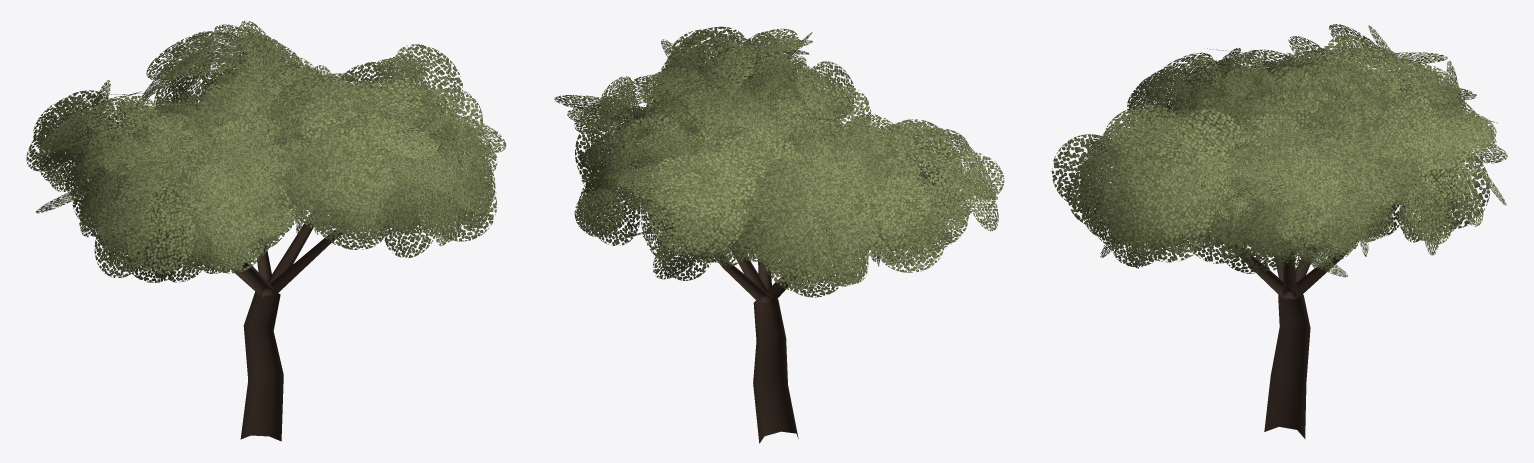
Rendered from caral_huarango_lod0.glb.
The picture shows the model from 3 angles, left to right: view 1: azimuth 30°, elevation 25°; view 2: azimuth 150°, elevation 25°; view 3: azimuth 270°, elevation 25°; orthographic projection. The views are drawn at different scales.
Visible parts, largest first — view 1: GEO-Kit_huarango_LOD0; view 2: GEO-Kit_huarango_LOD0; view 3: GEO-Kit_huarango_LOD0.
Boxes of the visible parts, <box> form: GEO-Kit_huarango_LOD0: <box>26,20,506,441</box>; GEO-Kit_huarango_LOD0: <box>554,26,1004,443</box>; GEO-Kit_huarango_LOD0: <box>1051,24,1507,438</box>.
Bounding box in the file's own units: 7.5 × 6.14 × 7.13.
2 materials, 1 textured.
